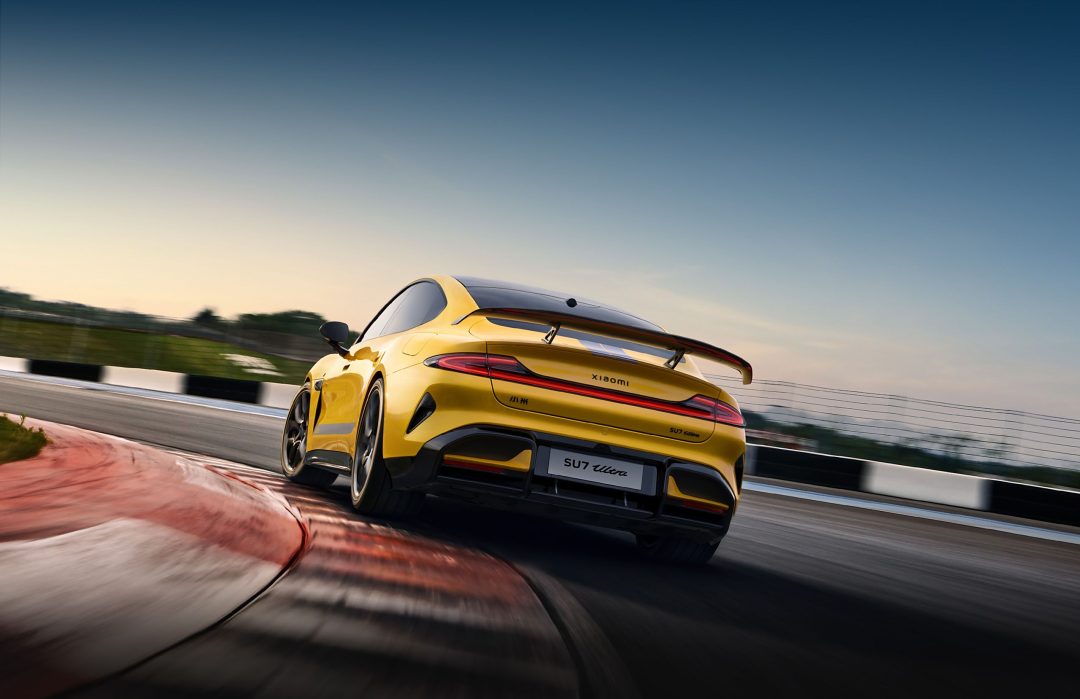su7: (260, 258, 759, 563)
